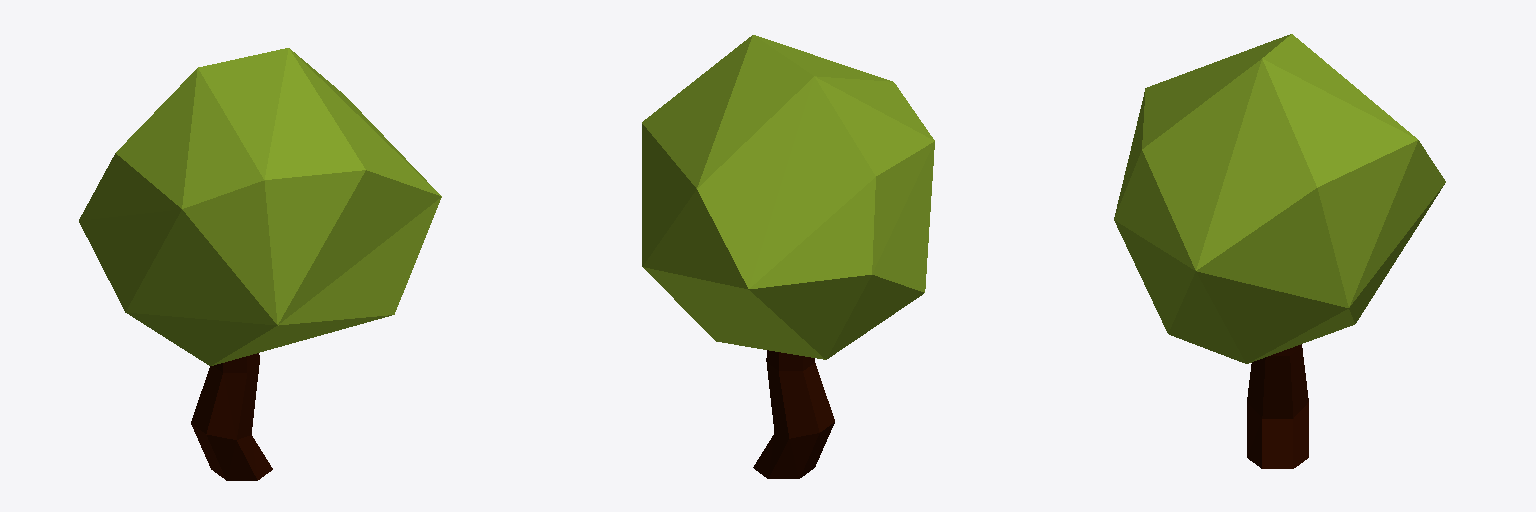
File: Bush1.obj
3 views of the same model, side by side, from view 1: azimuth 30°, elevation 25°; view 2: azimuth 150°, elevation 25°; view 3: azimuth 270°, elevation 25° (orthographic).
Visible parts, largest first — view 1: Bush1_Icosphere; view 2: Bush1_Icosphere; view 3: Bush1_Icosphere.
Part boxes in pixels (x1,y1,x2,y2): Bush1_Icosphere: (79,48,441,480); Bush1_Icosphere: (642,35,934,478); Bush1_Icosphere: (1114,34,1445,468).
Bounding box in the file's own units: 1.07 × 1.49 × 1.07.